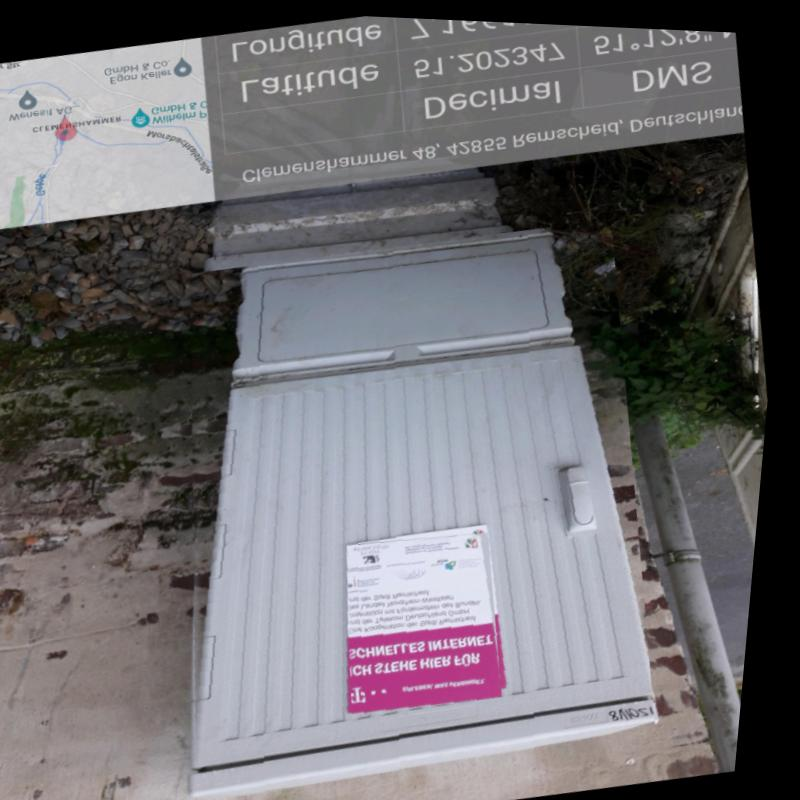NT-Gehause: (212, 223, 669, 799)
Steaker: (335, 516, 527, 717)
